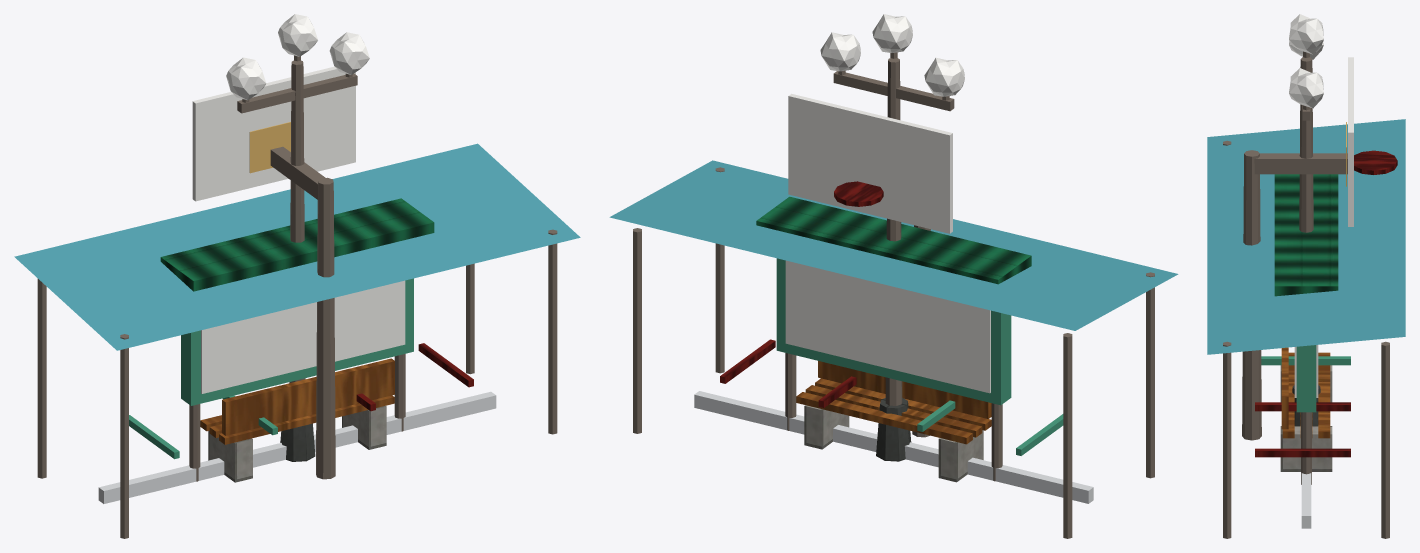
File: r2_props_kit.glb
3 renders of one model, left to right at view 1: azimuth 30°, elevation 25°; view 2: azimuth 150°, elevation 25°; view 3: azimuth 270°, elevation 25°, orthographic. The views are drawn at different scales.
Visible parts, largest first — view 1: r2_prop_bike_rack, r2_prop_bulletin, r2_prop_hoop, r2_prop_bench, r2_prop_lamp; view 2: r2_prop_bike_rack, r2_prop_bulletin, r2_prop_hoop, r2_prop_bench, r2_prop_lamp; view 3: r2_prop_bike_rack, r2_prop_bulletin, r2_prop_hoop, r2_prop_lamp, r2_prop_bench.
Part boxes in pixels (left/top/right/bottom): r2_prop_bike_rack: left=14, top=143, right=580, bottom=538; r2_prop_bulletin: left=160, top=198, right=434, bottom=481; r2_prop_hoop: left=192, top=66, right=355, bottom=479; r2_prop_bench: left=200, top=358, right=394, bottom=482; r2_prop_lamp: left=226, top=14, right=369, bottom=461; r2_prop_bike_rack: left=609, top=160, right=1178, bottom=538; r2_prop_bulletin: left=756, top=196, right=1031, bottom=481; r2_prop_hoop: left=788, top=93, right=952, bottom=437; r2_prop_bench: left=796, top=361, right=991, bottom=482; r2_prop_lamp: left=820, top=14, right=964, bottom=461; r2_prop_bike_rack: left=1207, top=119, right=1405, bottom=538; r2_prop_bulletin: left=1274, top=174, right=1338, bottom=484; r2_prop_hoop: left=1242, top=57, right=1397, bottom=440; r2_prop_lamp: left=1289, top=14, right=1323, bottom=425; r2_prop_bench: left=1280, top=347, right=1332, bottom=471.
Size of the model in its own units: 5.2 by 4.67 by 2.
Materials: 11 (5 with a texture image).
